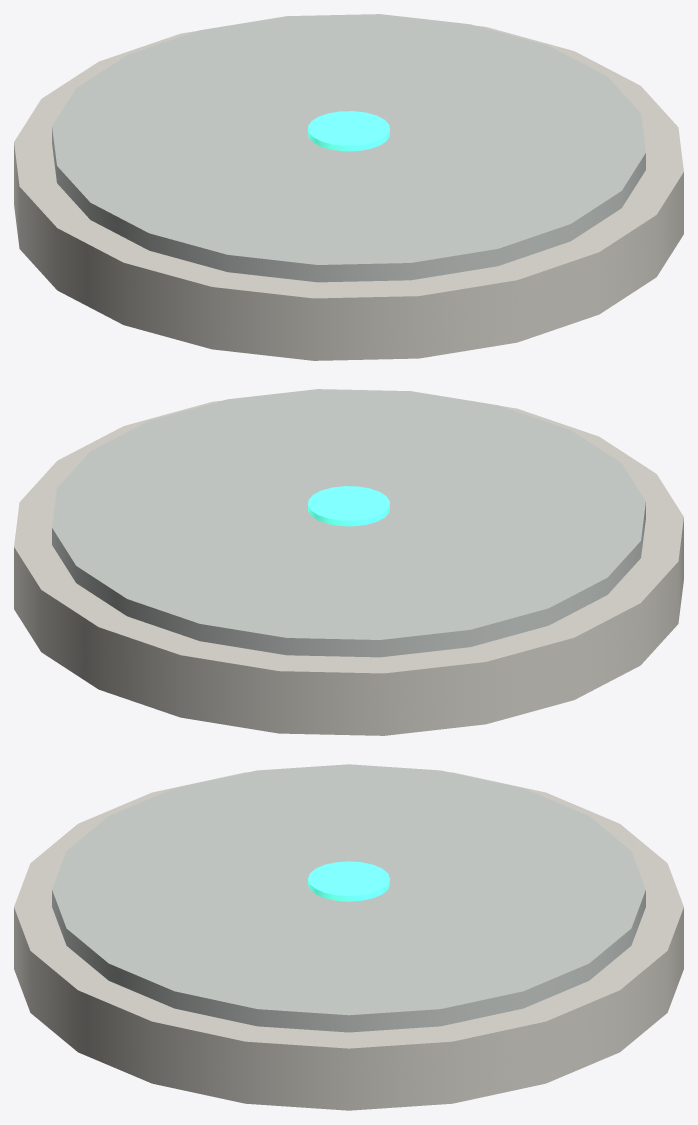
The picture shows the model from 3 angles, top to bottom: view 1: azimuth 30°, elevation 25°; view 2: azimuth 150°, elevation 25°; view 3: azimuth 270°, elevation 25°; orthographic projection.
Parts seen in each view (by area): view 1: ap; view 2: ap; view 3: ap.
Boxes of the visible parts, x1,y1,x2,y2 form: ap: [14, 14, 683, 360]; ap: [14, 389, 683, 735]; ap: [14, 764, 683, 1110].
Bounding box in the file's own units: 0.44 × 0.0655 × 0.44.
Materials: 3 (3 with a texture image).
